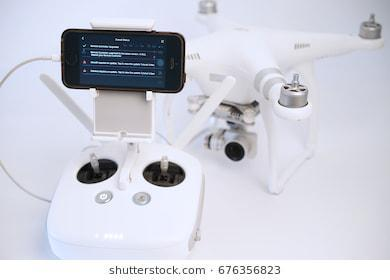drone: (151, 0, 390, 199)
